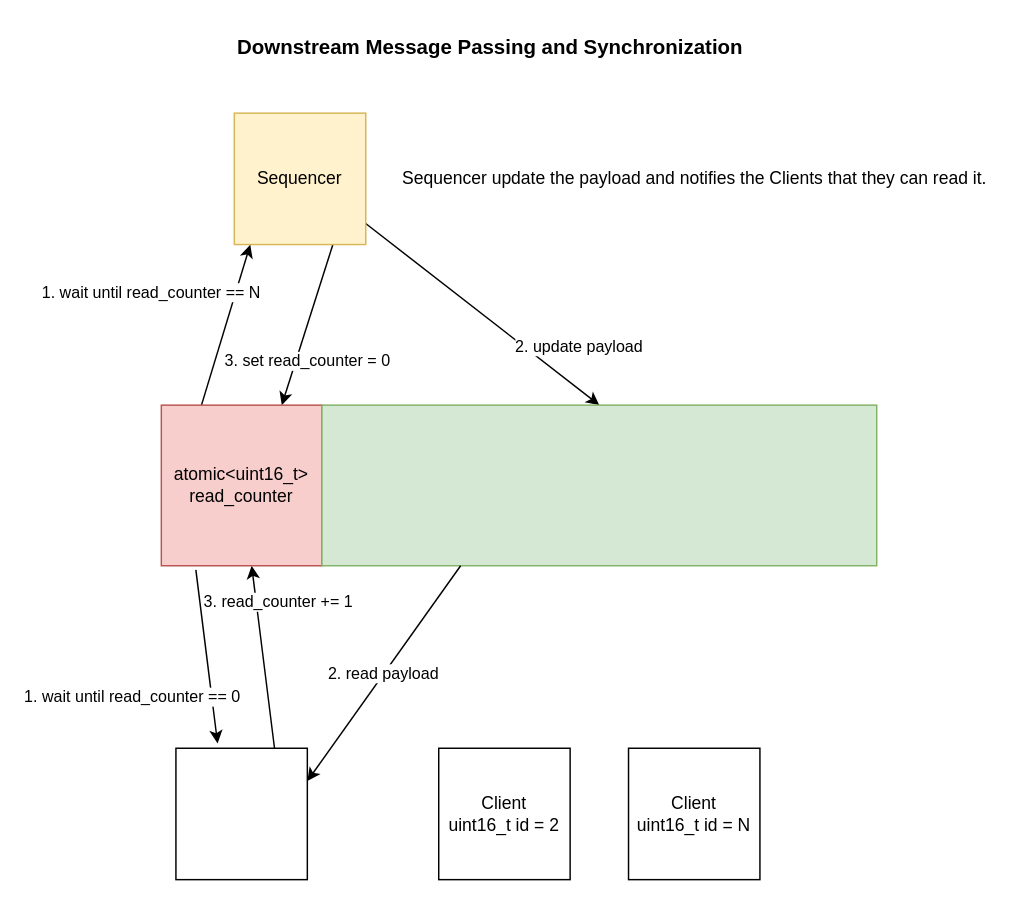
This 1026x905 diagram has some shape labels left out. The shapes that lost their labels are listed below. From the top down, each one's centre as x and y in pixels, then its label:
At pixel 598 485: "array<uint8_t, 1024> down_stream_packet_payload".
At pixel 240 813: "Client uint16_t id = 0".
